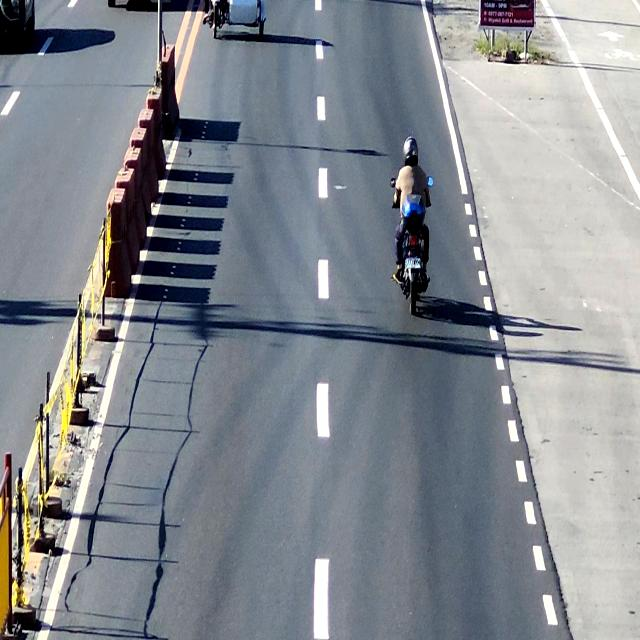License-Plate: (405, 251, 422, 270)
Motorcycle: (390, 136, 436, 326)
